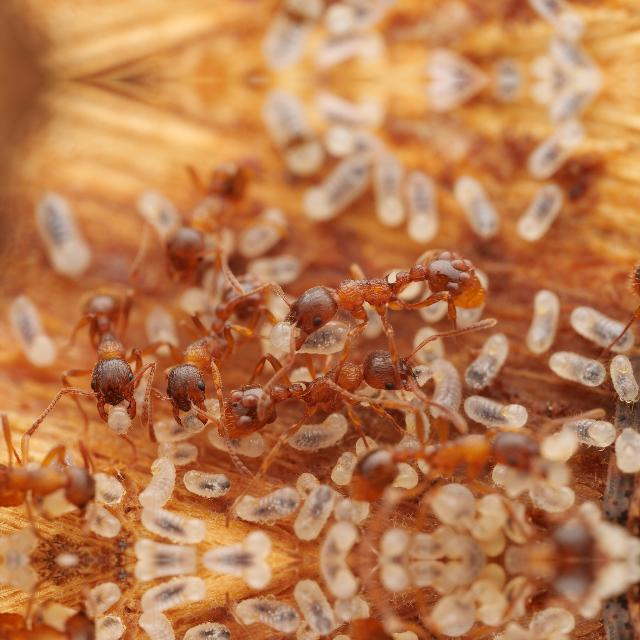Myrmica: (318, 399, 566, 503), (207, 342, 438, 442), (130, 139, 284, 283), (273, 237, 475, 343), (148, 268, 296, 412), (52, 284, 168, 428), (0, 432, 118, 530), (0, 588, 118, 640), (316, 616, 566, 640), (605, 251, 639, 353)
